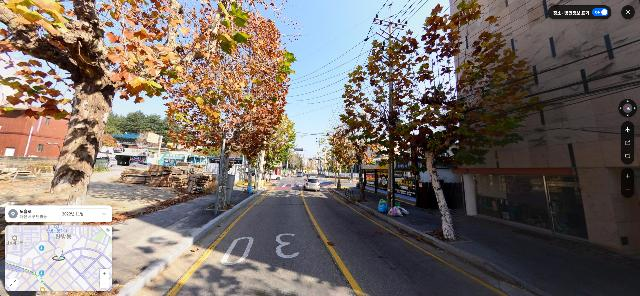other: (0, 0, 251, 207), (339, 0, 541, 242), (154, 0, 300, 210), (227, 13, 301, 193), (329, 123, 378, 201), (259, 114, 298, 185), (321, 127, 356, 191)
